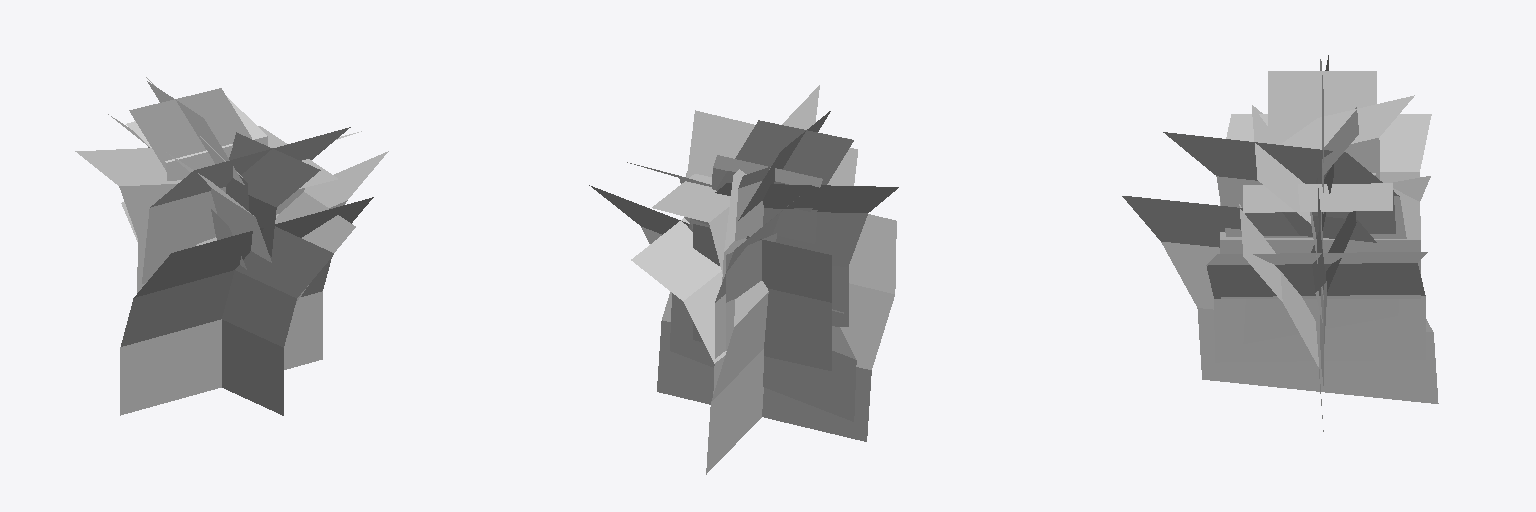
3 views of the same model, side by side, from view 1: azimuth 30°, elevation 25°; view 2: azimuth 150°, elevation 25°; view 3: azimuth 270°, elevation 25° (orthographic).
Visible parts, largest first — view 1: trunk; view 2: trunk; view 3: trunk.
Part boxes in pixels (x1,y1,x2,y2): trunk: (75,77,388,415); trunk: (589,85,898,474); trunk: (1122,55,1438,431).
Bounding box in the file's own units: 17.83 × 17.08 × 15.66.